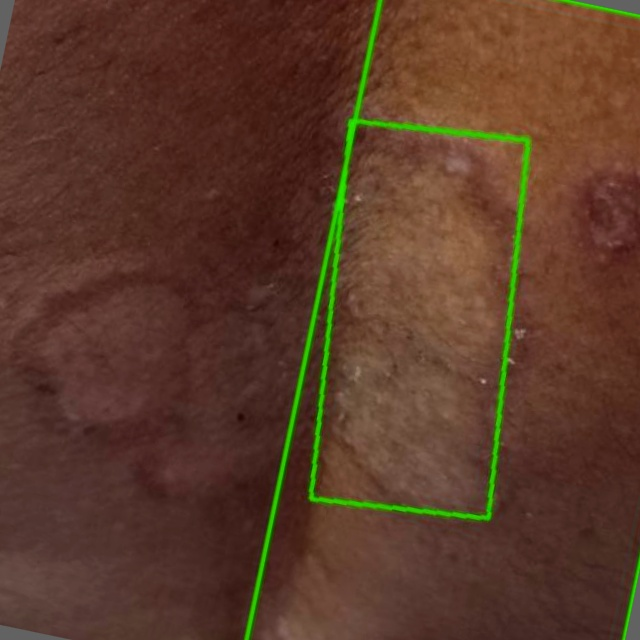Tinea Corporis: (246, 0, 639, 639), (311, 121, 528, 518)
